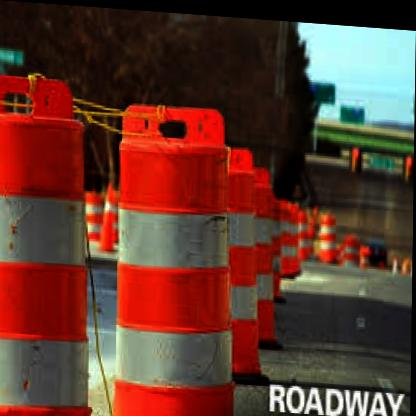obstacle: (105, 84, 241, 416)
